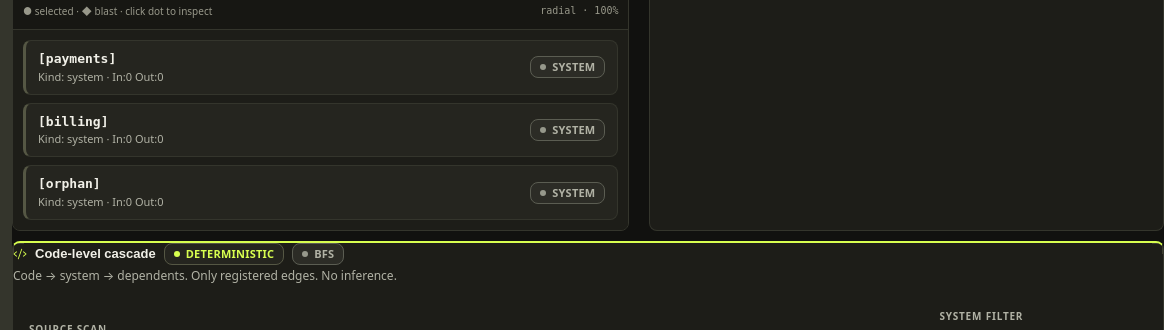
Test: DependencyGraph — asset inspector (gap analysis §A) › a node without evidence reads unknown, never a clean provenance
The width and height of the screenshot is (1164, 330).
(page scrolled)
Step 1. Click the text "orphan" → x=69, y=184, box 46,176 -> 93,191
(page scrolled)
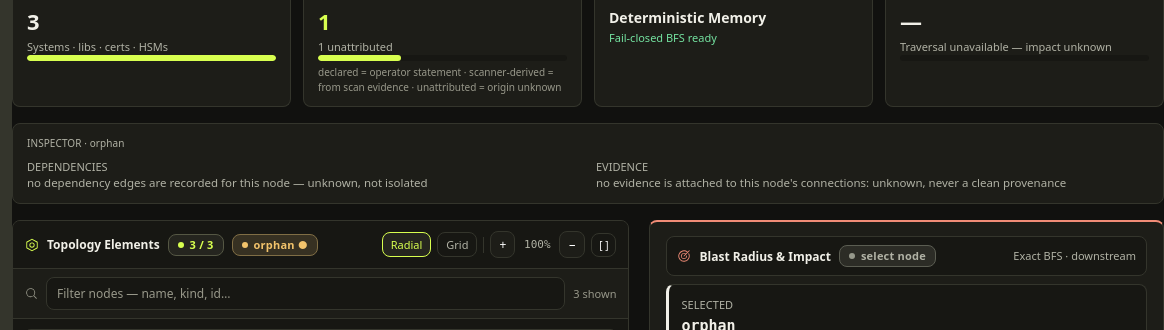
expect the element with test id "node-inspector" is shown: met, box 12,123 -> 1163,204
expect the text "unknown, never a clean provenance" is shown: met, box 596,175 -> 1066,190
expect the text "unknown, not isolated" is shown: met, box 27,175 -> 428,190
